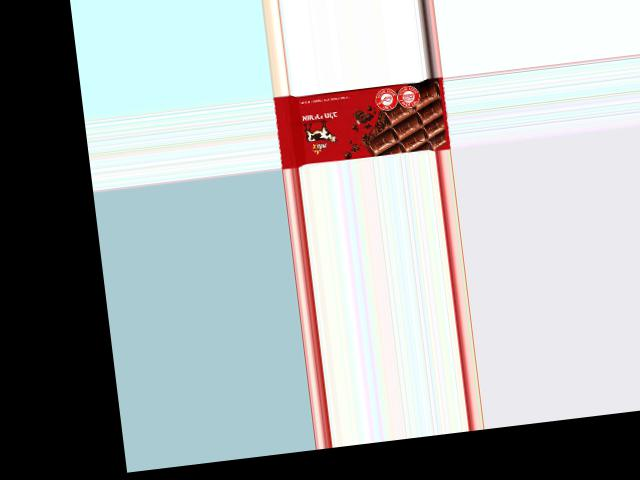chocolate: (272, 77, 449, 168)
